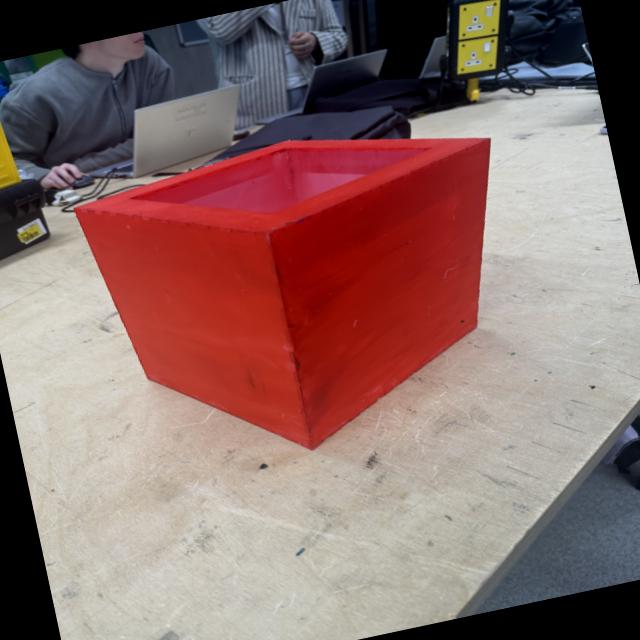red_bin: (69, 98, 546, 488)
